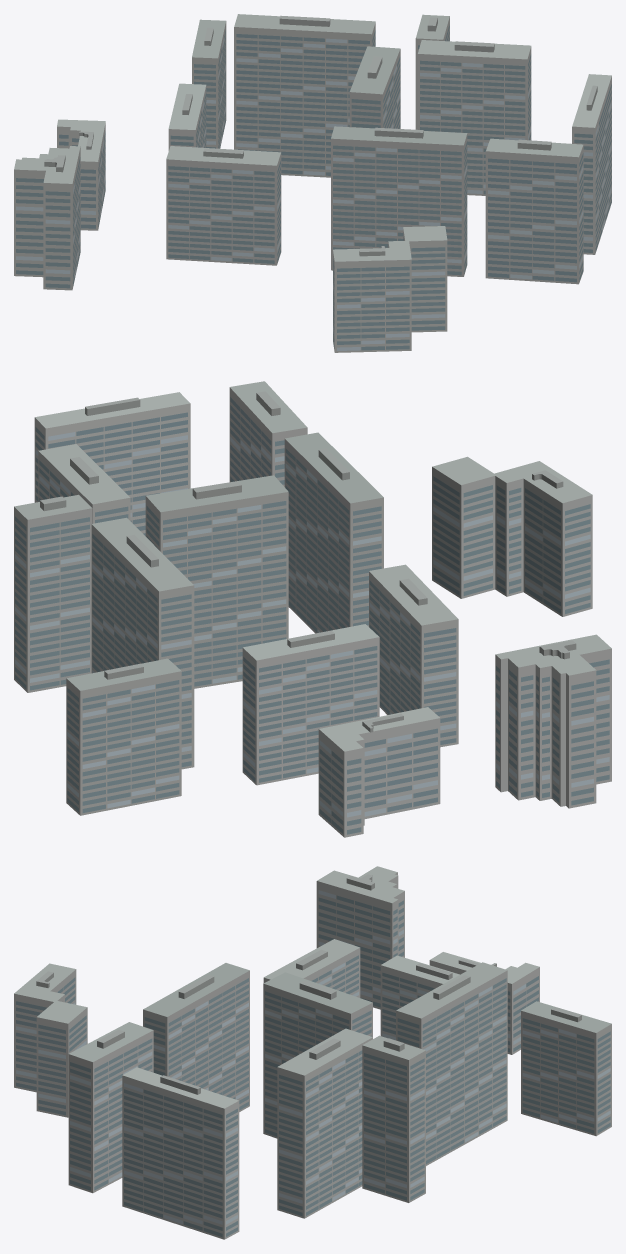
File: apt-a12125202.glb
3 renders of one model, top to bottom at view 1: azimuth 30°, elevation 25°; view 2: azimuth 150°, elevation 25°; view 3: azimuth 270°, elevation 25°, orthographic. The views are drawn at different scales.
Parts seen in each view (by area): view 1: apt-a12125202; view 2: apt-a12125202; view 3: apt-a12125202.
Part boxes in pixels (<box>): apt-a12125202: <box>14,14,611,352</box>; apt-a12125202: <box>14,381,611,837</box>; apt-a12125202: <box>14,866,611,1239</box>.
Size of the model in its own units: 236 by 65 by 226.
